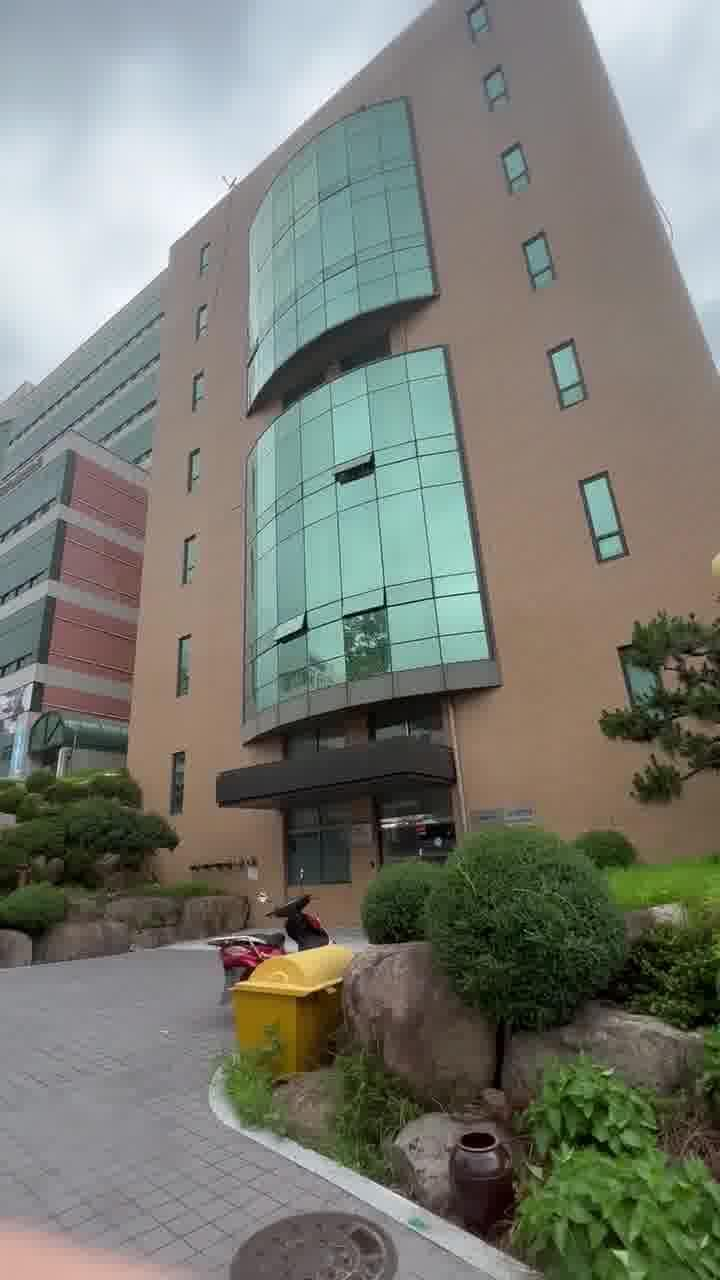building: (148, 86, 572, 838)
